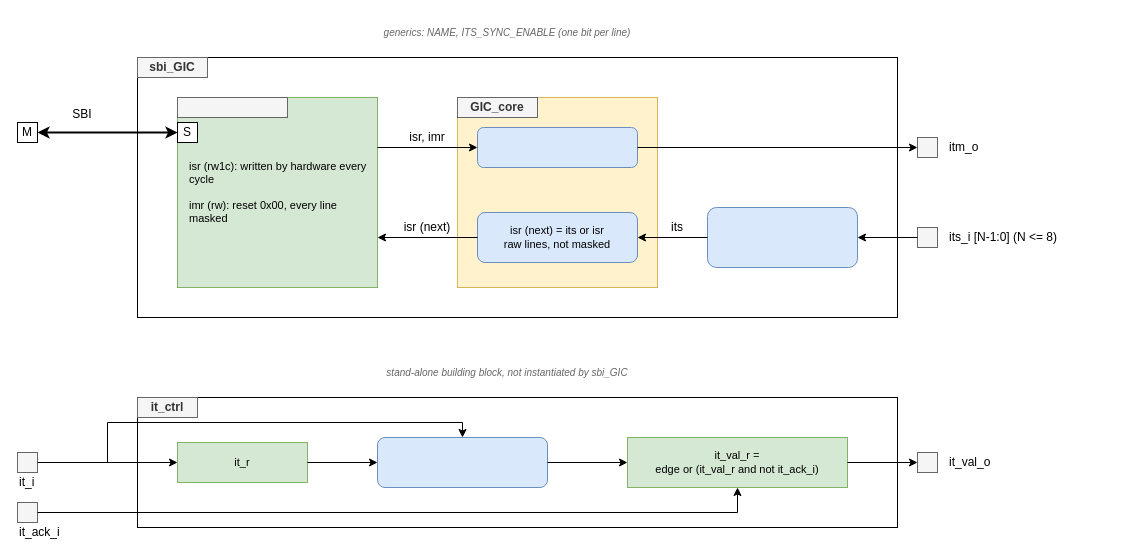
This 1135x559 diagram has some shape labels left out. Each missing label, with the centre of its shape:
"edge = it_i and not it_r" goes at (462,462).
"GIC_registers" goes at (232,107).
"itm = OR(isr and imr)" goes at (557,147).
"sync2dffrn per line if ITS_SYNC_ENABLE(i)" goes at (782,237).
